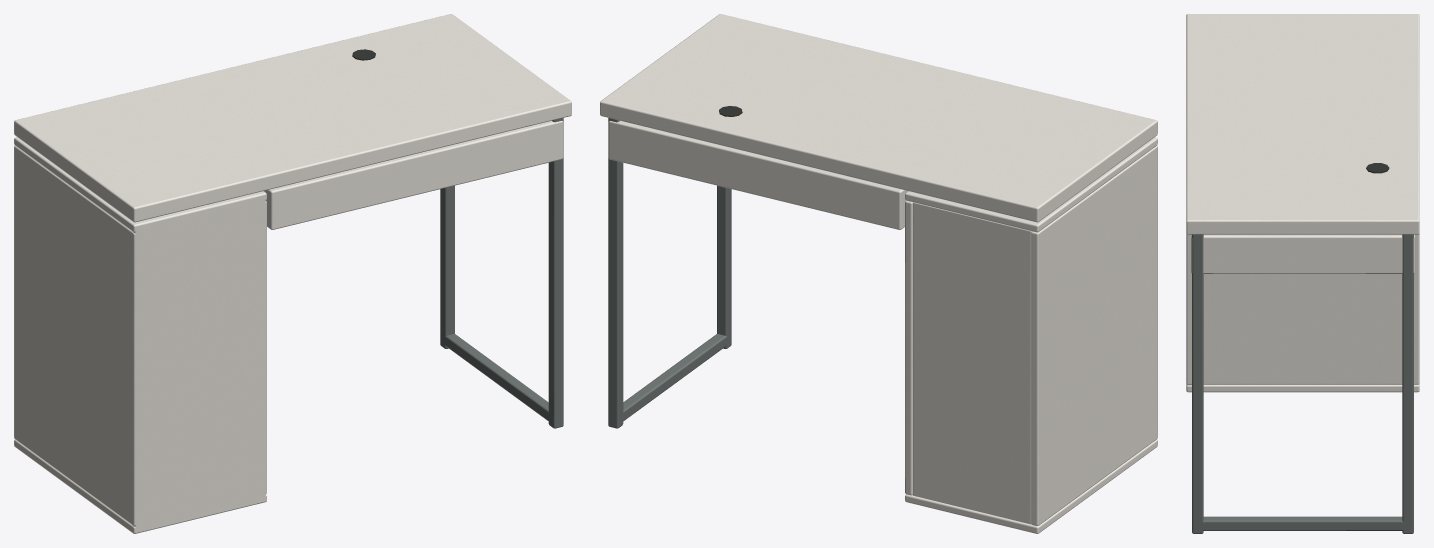
Rendered from micke-mobile.glb.
3 views of the same model, side by side, from view 1: azimuth 30°, elevation 25°; view 2: azimuth 150°, elevation 25°; view 3: azimuth 270°, elevation 25° (orthographic). The views are drawn at different scales.
Parts seen in each view (by area): view 1: MICKE Desk; view 2: MICKE Desk; view 3: MICKE Desk.
Part boxes in pixels (x1,y1,x2,y2): MICKE Desk: (14, 14, 571, 533); MICKE Desk: (600, 14, 1157, 533); MICKE Desk: (1186, 14, 1419, 533).
Size of the model in its own units: 1.05 by 0.75 by 0.5.
3 materials, 2 textured.
